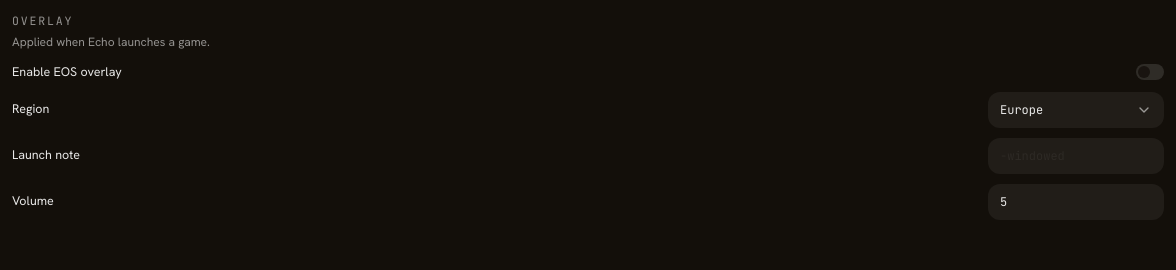
Test: plugin settings › after a failed save the form shows what the backend holds
Click the switch named "Enable EOS overlay": (1150, 72) [1136,64,1164,80]
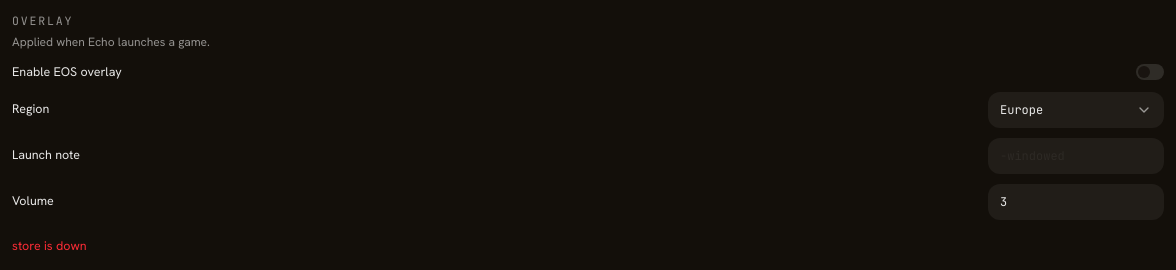
expect the number field named "Volume" holds "3": met, box [988,184,1164,220]
expect the message reads "store is down": met, box [12,236,87,254]
